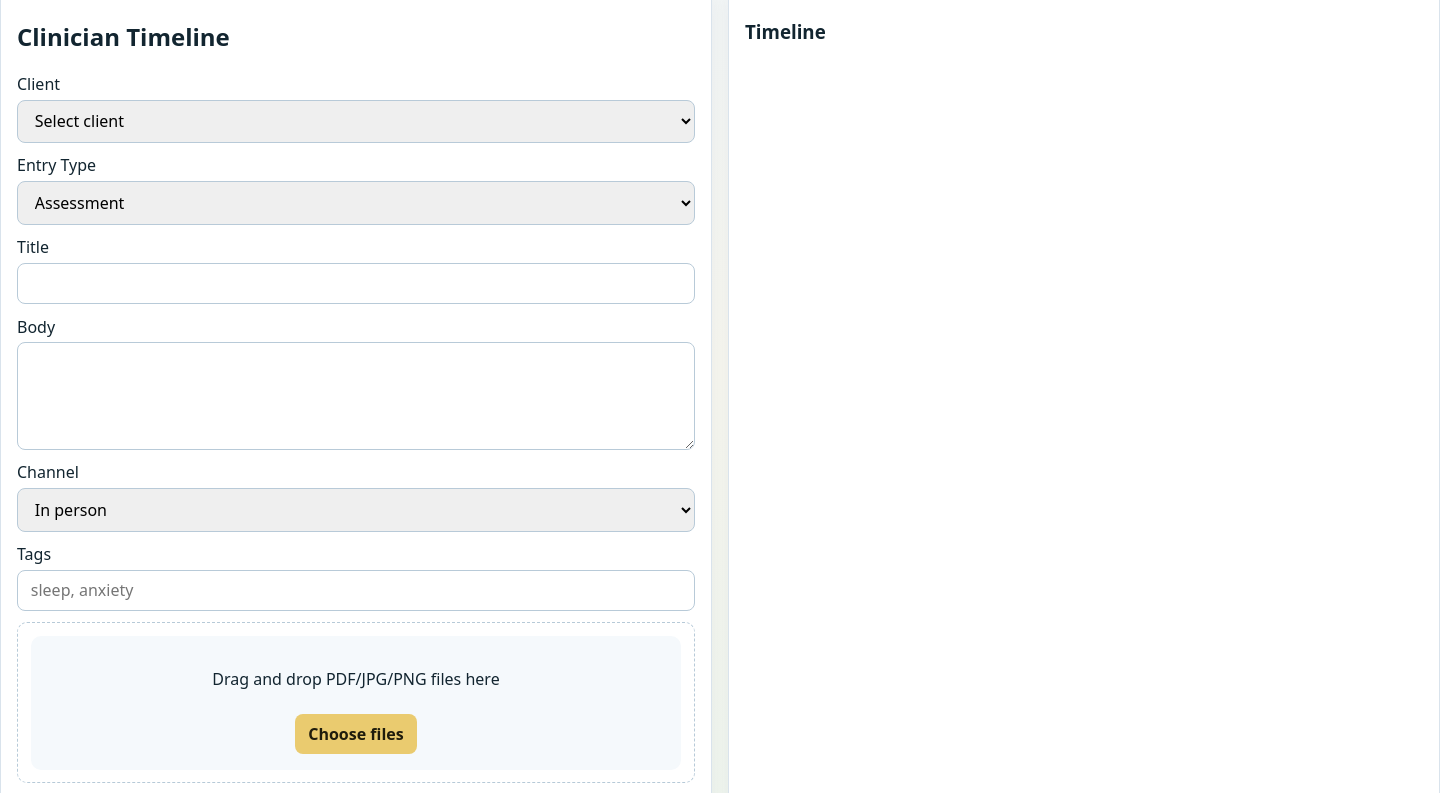
Scenario: ClinicianModule — form validation › shows title error when title is empty
This screenshot has width=1440, height=793.
Select "Alice Smith" in the dropdown labelled "Client" at (356, 121), box [17,100,695,143]
(page scrolled)
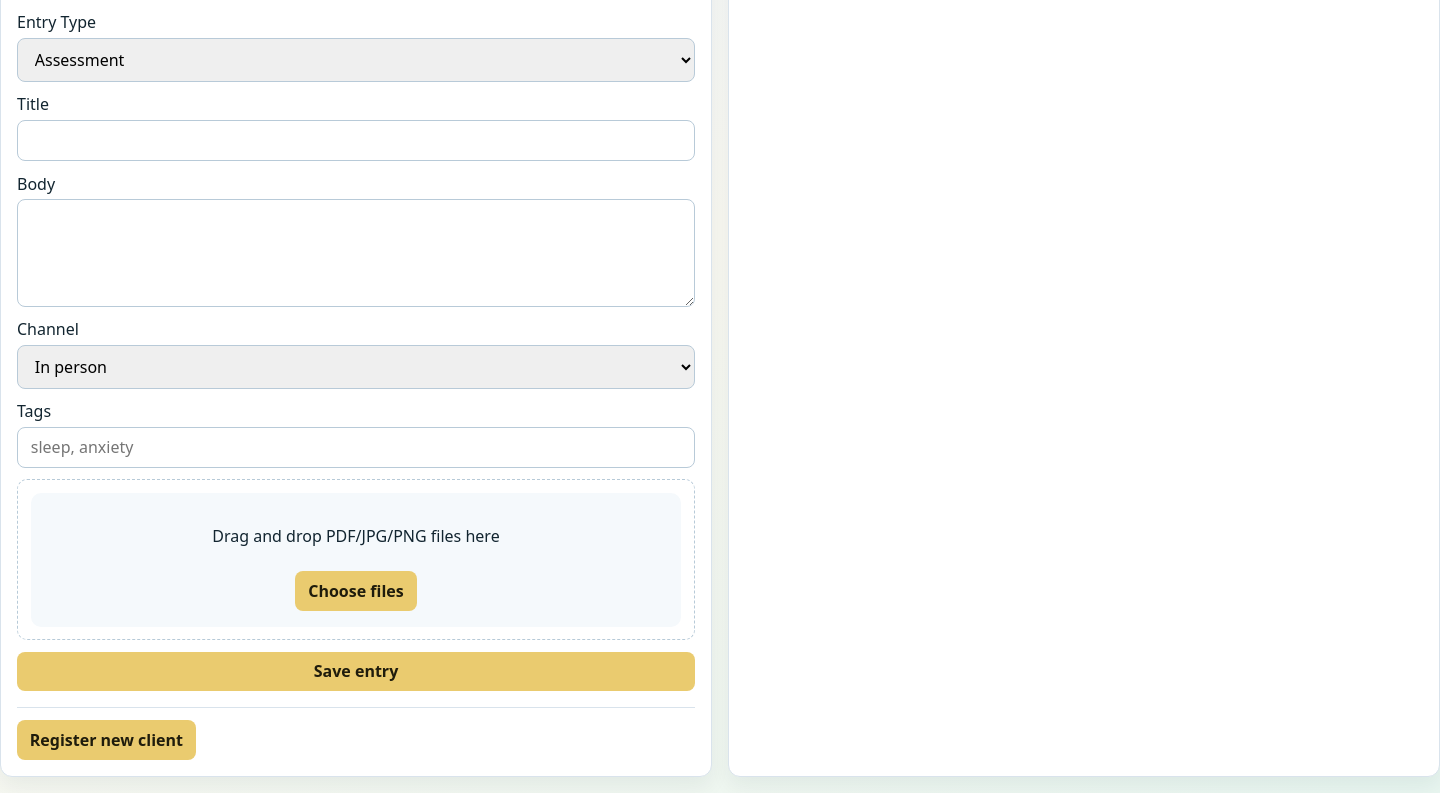
Click the button "Save entry".
click(356, 672)  # box [17,652,695,691]
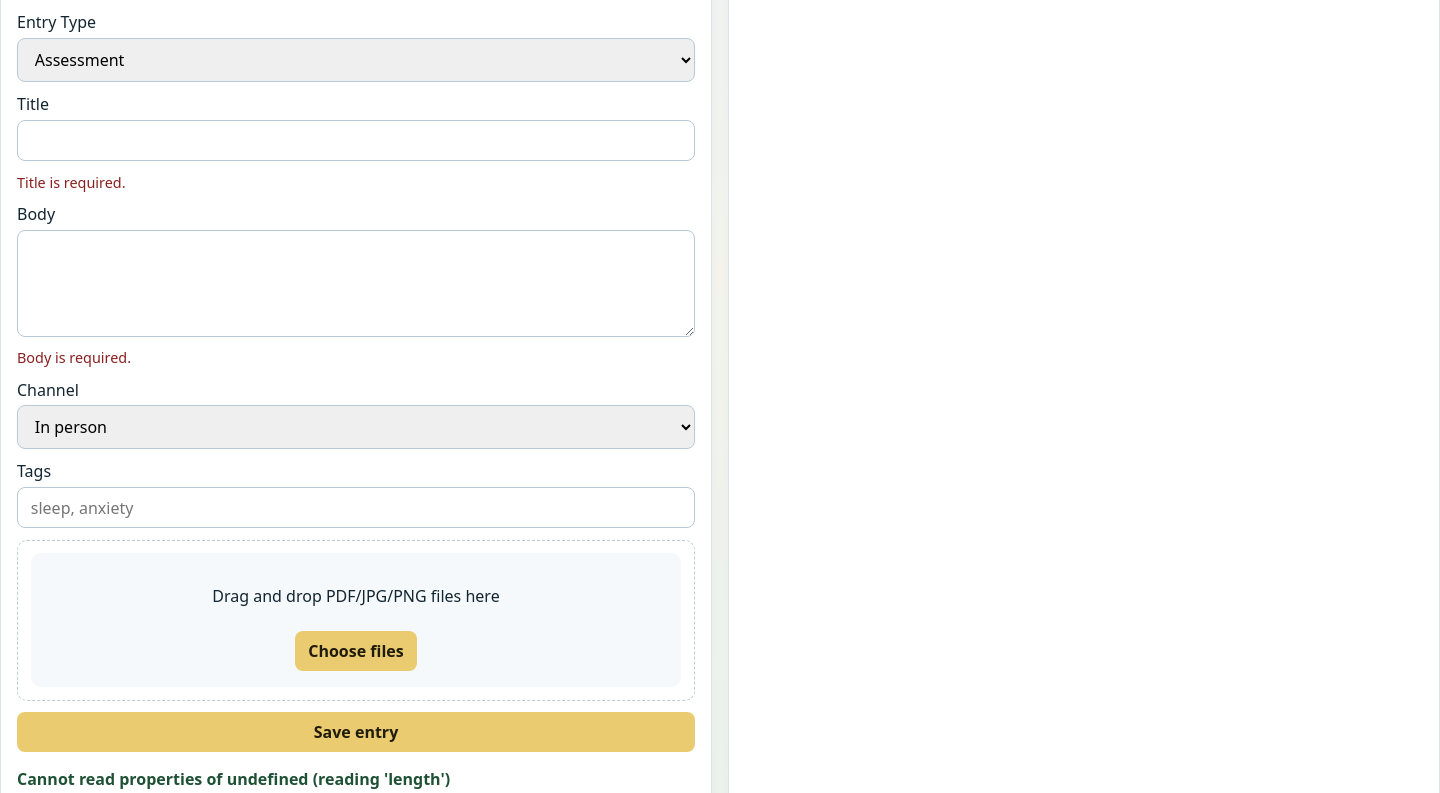
Now the text "Title is required." is shown, box [17,172,126,192]
